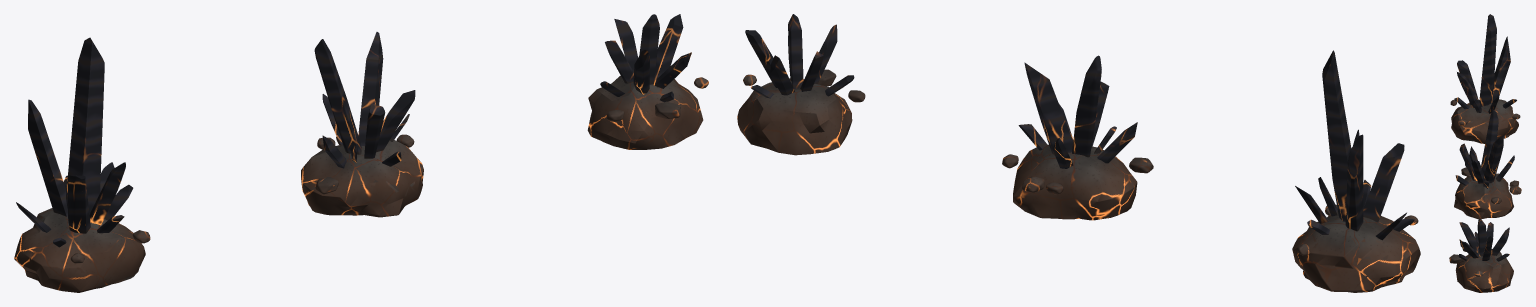
File: ObsidianCluster.gltf
3 views of the same model, side by side, from view 1: azimuth 30°, elevation 25°; view 2: azimuth 150°, elevation 25°; view 3: azimuth 270°, elevation 25° (orthographic). The views are drawn at different scales.
Visible parts, largest first — view 1: ObsidianCluster_A, ObsidianCluster_B, ObsidianCluster_C; view 2: ObsidianCluster_A, ObsidianCluster_B, ObsidianCluster_C; view 3: ObsidianCluster_A, ObsidianCluster_B, ObsidianCluster_C.
Boxes of the visible parts, x1,y1,x2,y2 form: ObsidianCluster_A: [14, 37, 150, 292]; ObsidianCluster_B: [301, 32, 423, 217]; ObsidianCluster_C: [587, 14, 708, 149]; ObsidianCluster_A: [1292, 50, 1420, 292]; ObsidianCluster_B: [1002, 55, 1153, 220]; ObsidianCluster_C: [737, 14, 865, 155]; ObsidianCluster_A: [1450, 14, 1520, 143]; ObsidianCluster_B: [1454, 109, 1521, 219]; ObsidianCluster_C: [1449, 219, 1513, 292].
Size of the model in its own units: 8.48 by 2.63 by 1.43.
2 materials, 2 textured.
